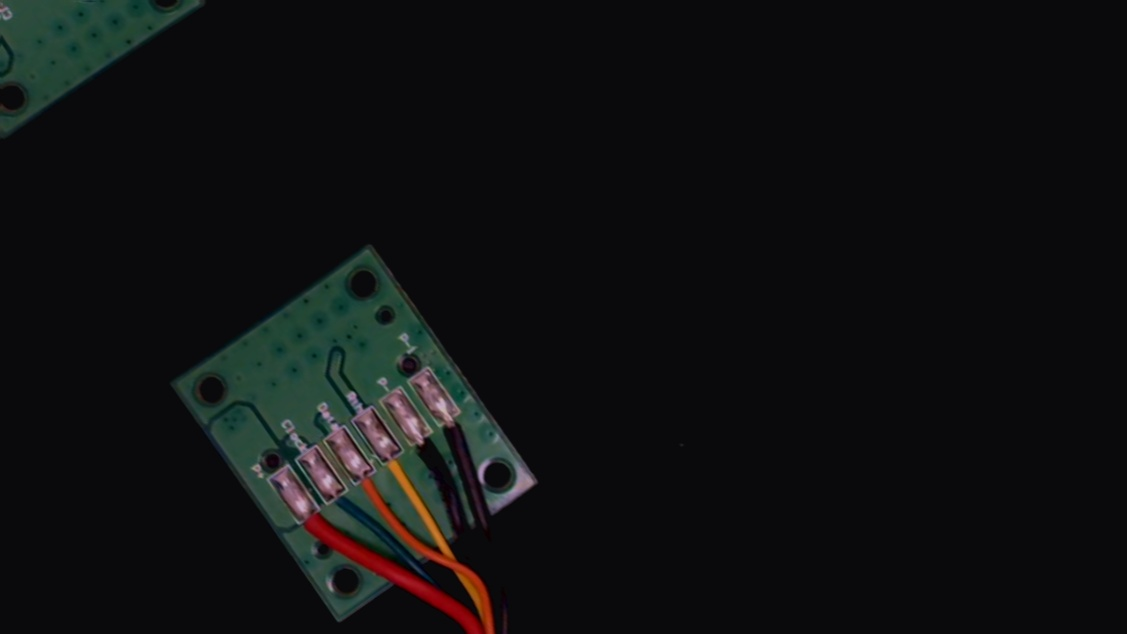Black: (400, 418, 454, 481)
Black1: (430, 397, 487, 462)
Green: (313, 473, 367, 534)
Orange: (342, 456, 395, 516)
Red: (284, 492, 344, 560)
Yellow: (372, 437, 426, 501)
